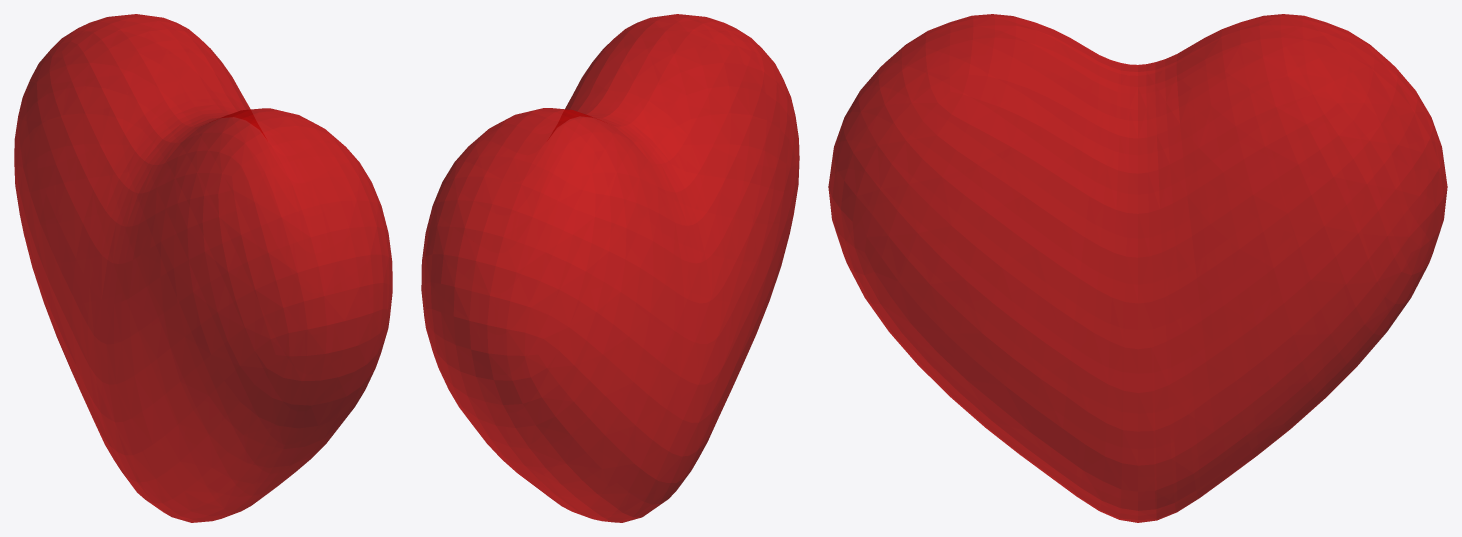
The model's file is heartblend3ds.fbx.
3 views of the same model, side by side, from view 1: azimuth 30°, elevation 25°; view 2: azimuth 150°, elevation 25°; view 3: azimuth 270°, elevation 25° (orthographic). The views are drawn at different scales.
Parts seen in each view (by area): view 1: Heart; view 2: Heart; view 3: Heart.
Boxes of the visible parts, box(x1,y1,x2,y2) form: Heart: box(14, 14, 392, 522); Heart: box(421, 14, 799, 522); Heart: box(828, 14, 1447, 522).
Size of the model in its own units: 23.33 by 48.1 by 55.
